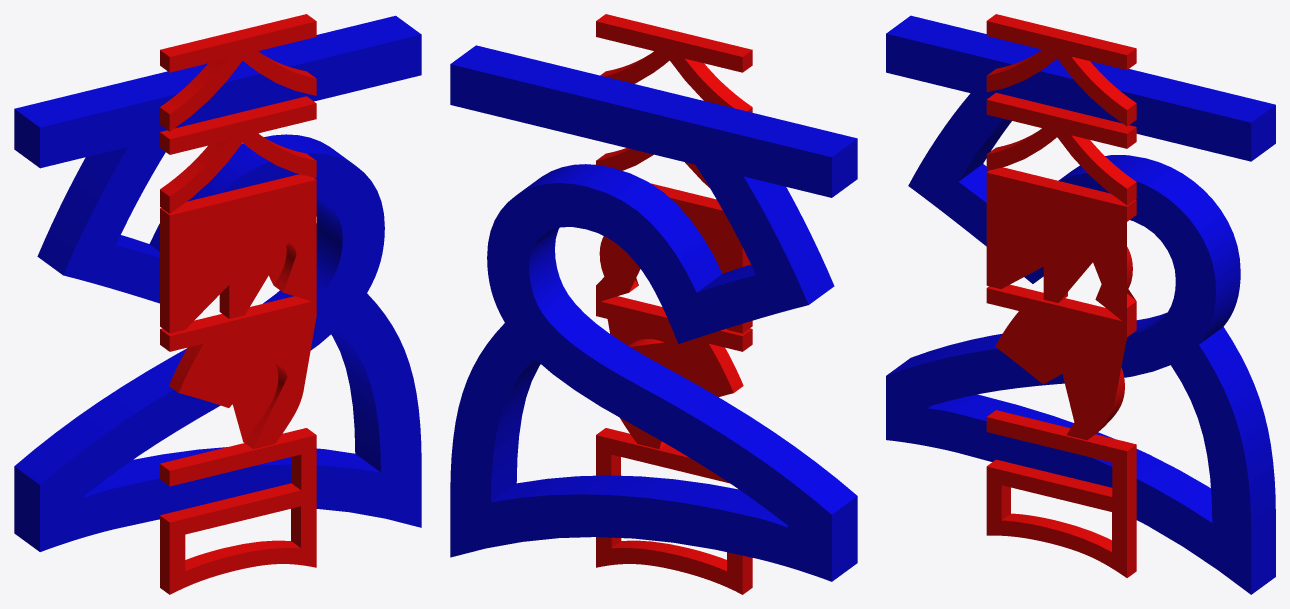
The model's file is Text_sign_8.fbx.
3 renders of one model, left to right at view 1: azimuth 30°, elevation 25°; view 2: azimuth 150°, elevation 25°; view 3: azimuth 330°, elevation 25°, orthographic. The views are drawn at different scales.
Visible parts, largest first — view 1: Text_sign_8; view 2: Text_sign_8; view 3: Text_sign_8.
Boxes of the visible parts, x1,y1,x2,y2 form: Text_sign_8: (14, 14, 421, 594); Text_sign_8: (450, 14, 857, 594); Text_sign_8: (886, 14, 1275, 594).
Bounding box in the file's own units: 55.86 × 76.45 × 9.67.
